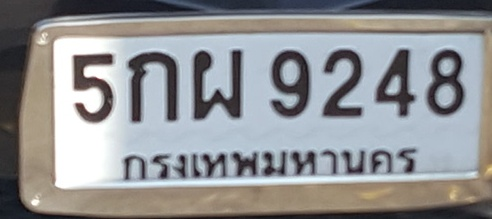num5: (68, 51, 118, 124)
txt01: (122, 49, 181, 123)
txt23: (189, 48, 246, 121)
